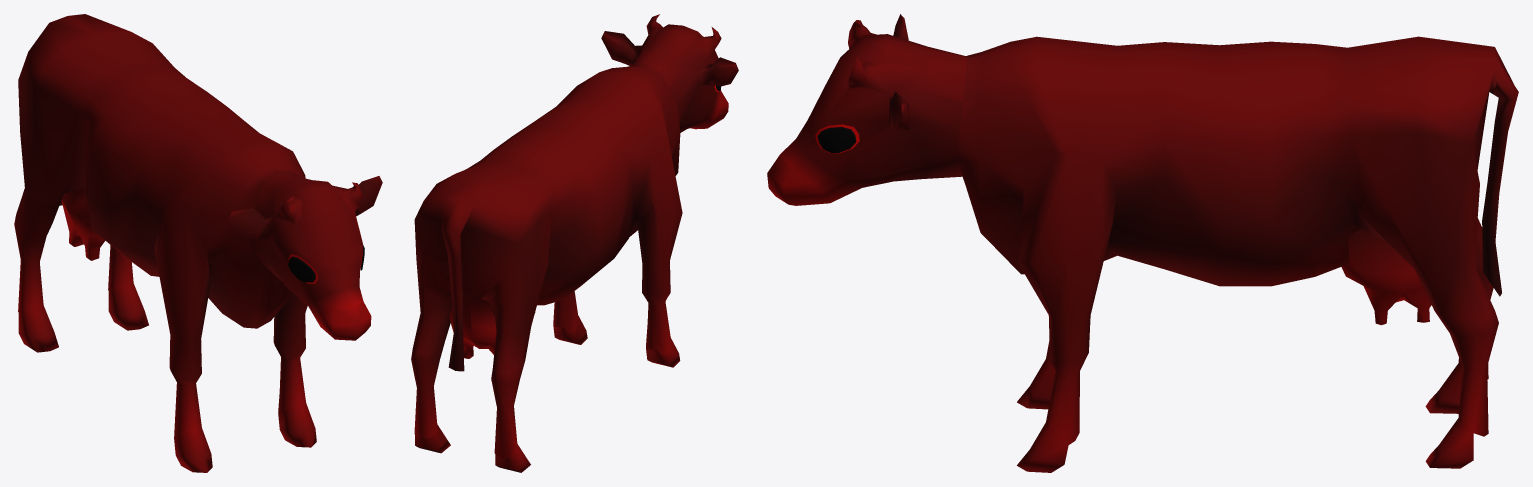
The model's file is Animals_BrownCow.fbx.
The picture shows the model from 3 angles, left to right: view 1: azimuth 30°, elevation 25°; view 2: azimuth 150°, elevation 25°; view 3: azimuth 270°, elevation 25°; orthographic projection. The views are drawn at different scales.
Visible parts, largest first — view 1: alt578, alt579; view 2: alt578, alt579; view 3: alt578, alt579.
Part boxes in pixels (<box>): alt578: <box>14,14,382,472</box>; alt579: <box>80,60,363,305</box>; alt578: <box>411,24,738,472</box>; alt579: <box>424,14,726,317</box>; alt578: <box>767,14,1518,472</box>; alt579: <box>780,20,1383,276</box>.
Size of the model in its own units: 66.62 by 131 by 226.
